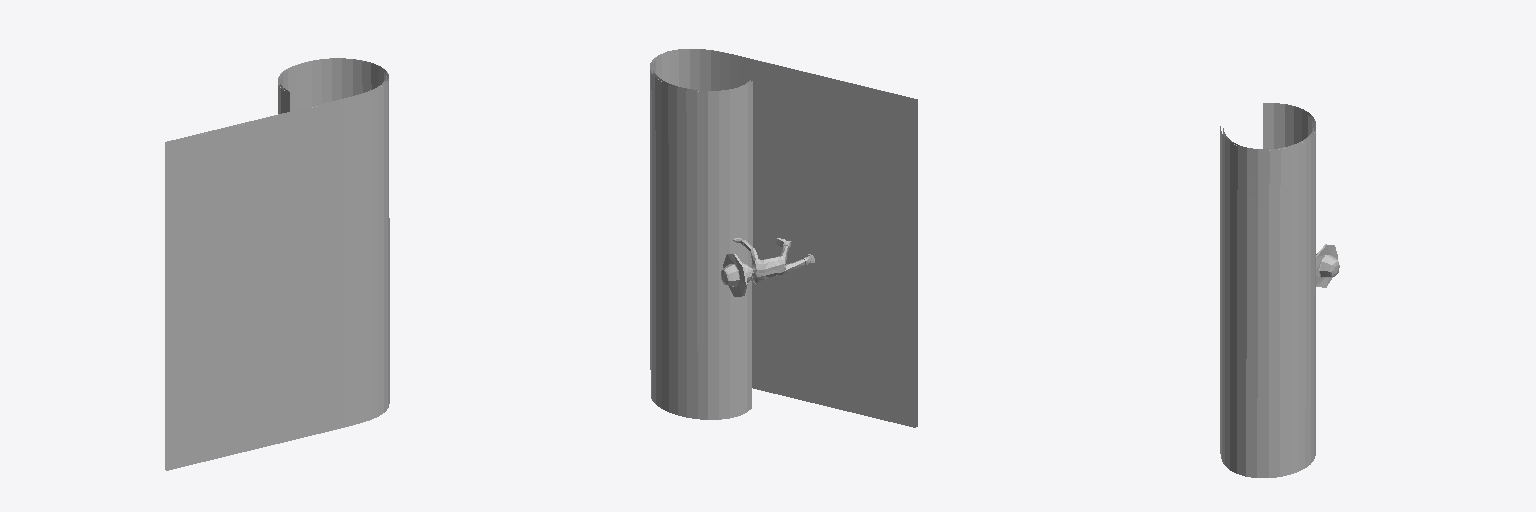
Rendered from start_file2_000051.obj.
3 renders of one model, left to right at view 1: azimuth 30°, elevation 25°; view 2: azimuth 150°, elevation 25°; view 3: azimuth 270°, elevation 25°, orthographic.
Visible parts, largest first — view 1: Cube_Cube.001; view 2: Cube_Cube.001, Character_Cube; view 3: Cube_Cube.001, Character_Cube.
Boxes of the visible parts, box(x1,y1,x2,y2) form: Cube_Cube.001: box(165, 58, 389, 470); Cube_Cube.001: box(650, 49, 917, 427); Character_Cube: box(721, 238, 814, 296); Cube_Cube.001: box(1220, 103, 1315, 477); Character_Cube: box(1316, 244, 1339, 287).
Size of the model in its own units: 1.17 by 1.52 by 0.5044.